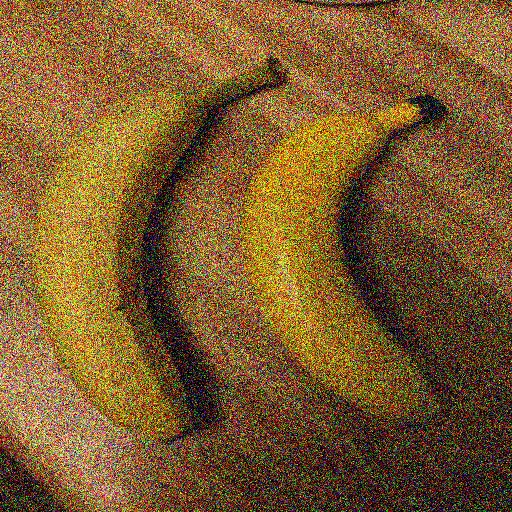fruit: (114, 120, 384, 442), (12, 135, 66, 483)
